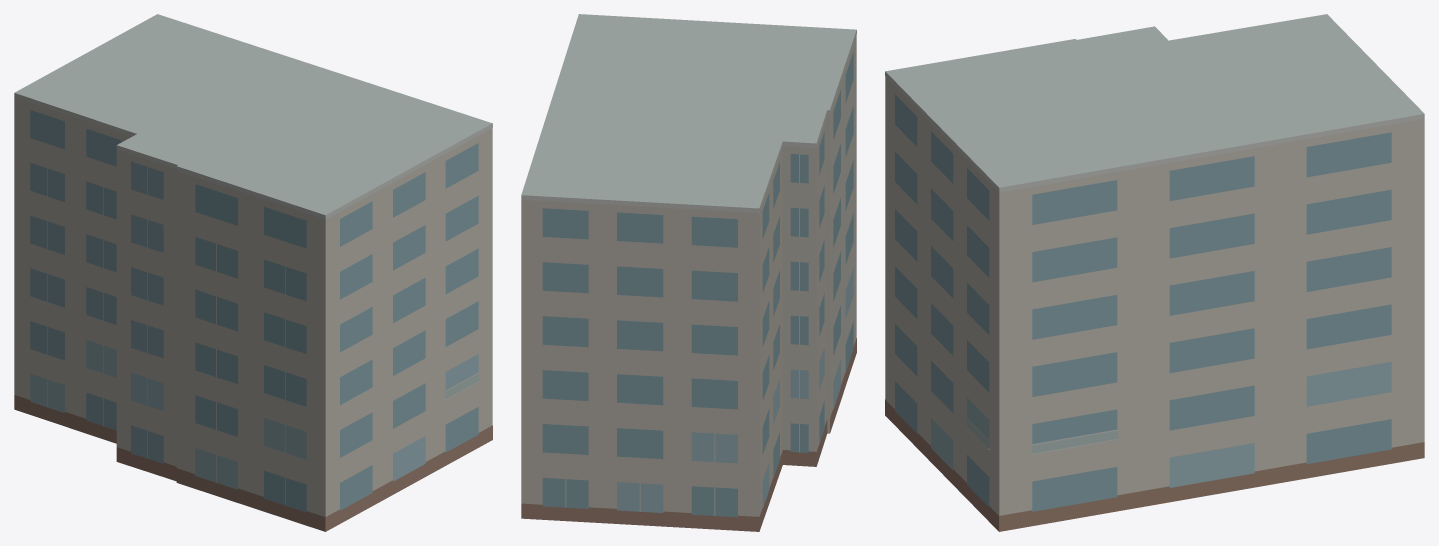
Rendered from survey-upis-32861285.glb.
3 views of the same model, side by side, from view 1: azimuth 30°, elevation 25°; view 2: azimuth 150°, elevation 25°; view 3: azimuth 270°, elevation 25° (orthographic). The views are drawn at different scales.
Parts seen in each view (by area): view 1: survey-upis-32861285.tmp; view 2: survey-upis-32861285.tmp; view 3: survey-upis-32861285.tmp.
Part boxes in pixels (x1,y1,x2,y2): survey-upis-32861285.tmp: [14, 14, 492, 531]; survey-upis-32861285.tmp: [521, 14, 856, 531]; survey-upis-32861285.tmp: [885, 14, 1424, 531].
Bounding box in the file's own units: 18.63 × 17.2 × 24.45.
